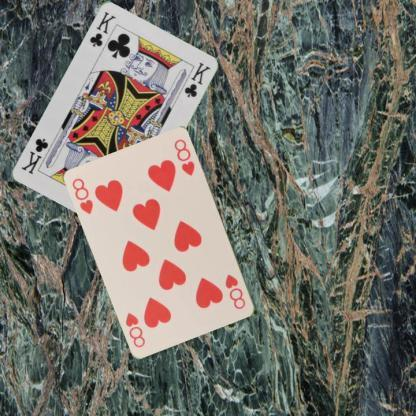8h: (70, 176, 95, 216), (223, 271, 247, 311)
Kc: (86, 8, 118, 48)
